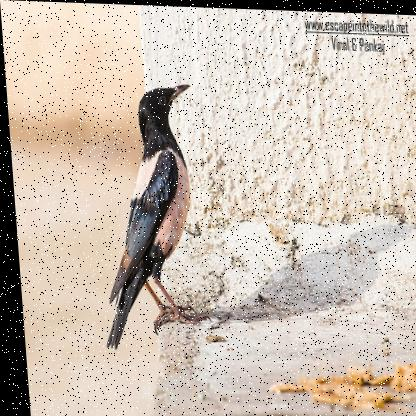Burung: (84, 77, 205, 350)
